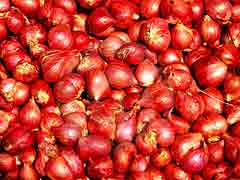onion: (194, 57, 227, 88), (86, 6, 116, 36), (105, 61, 135, 90), (219, 130, 239, 164)
